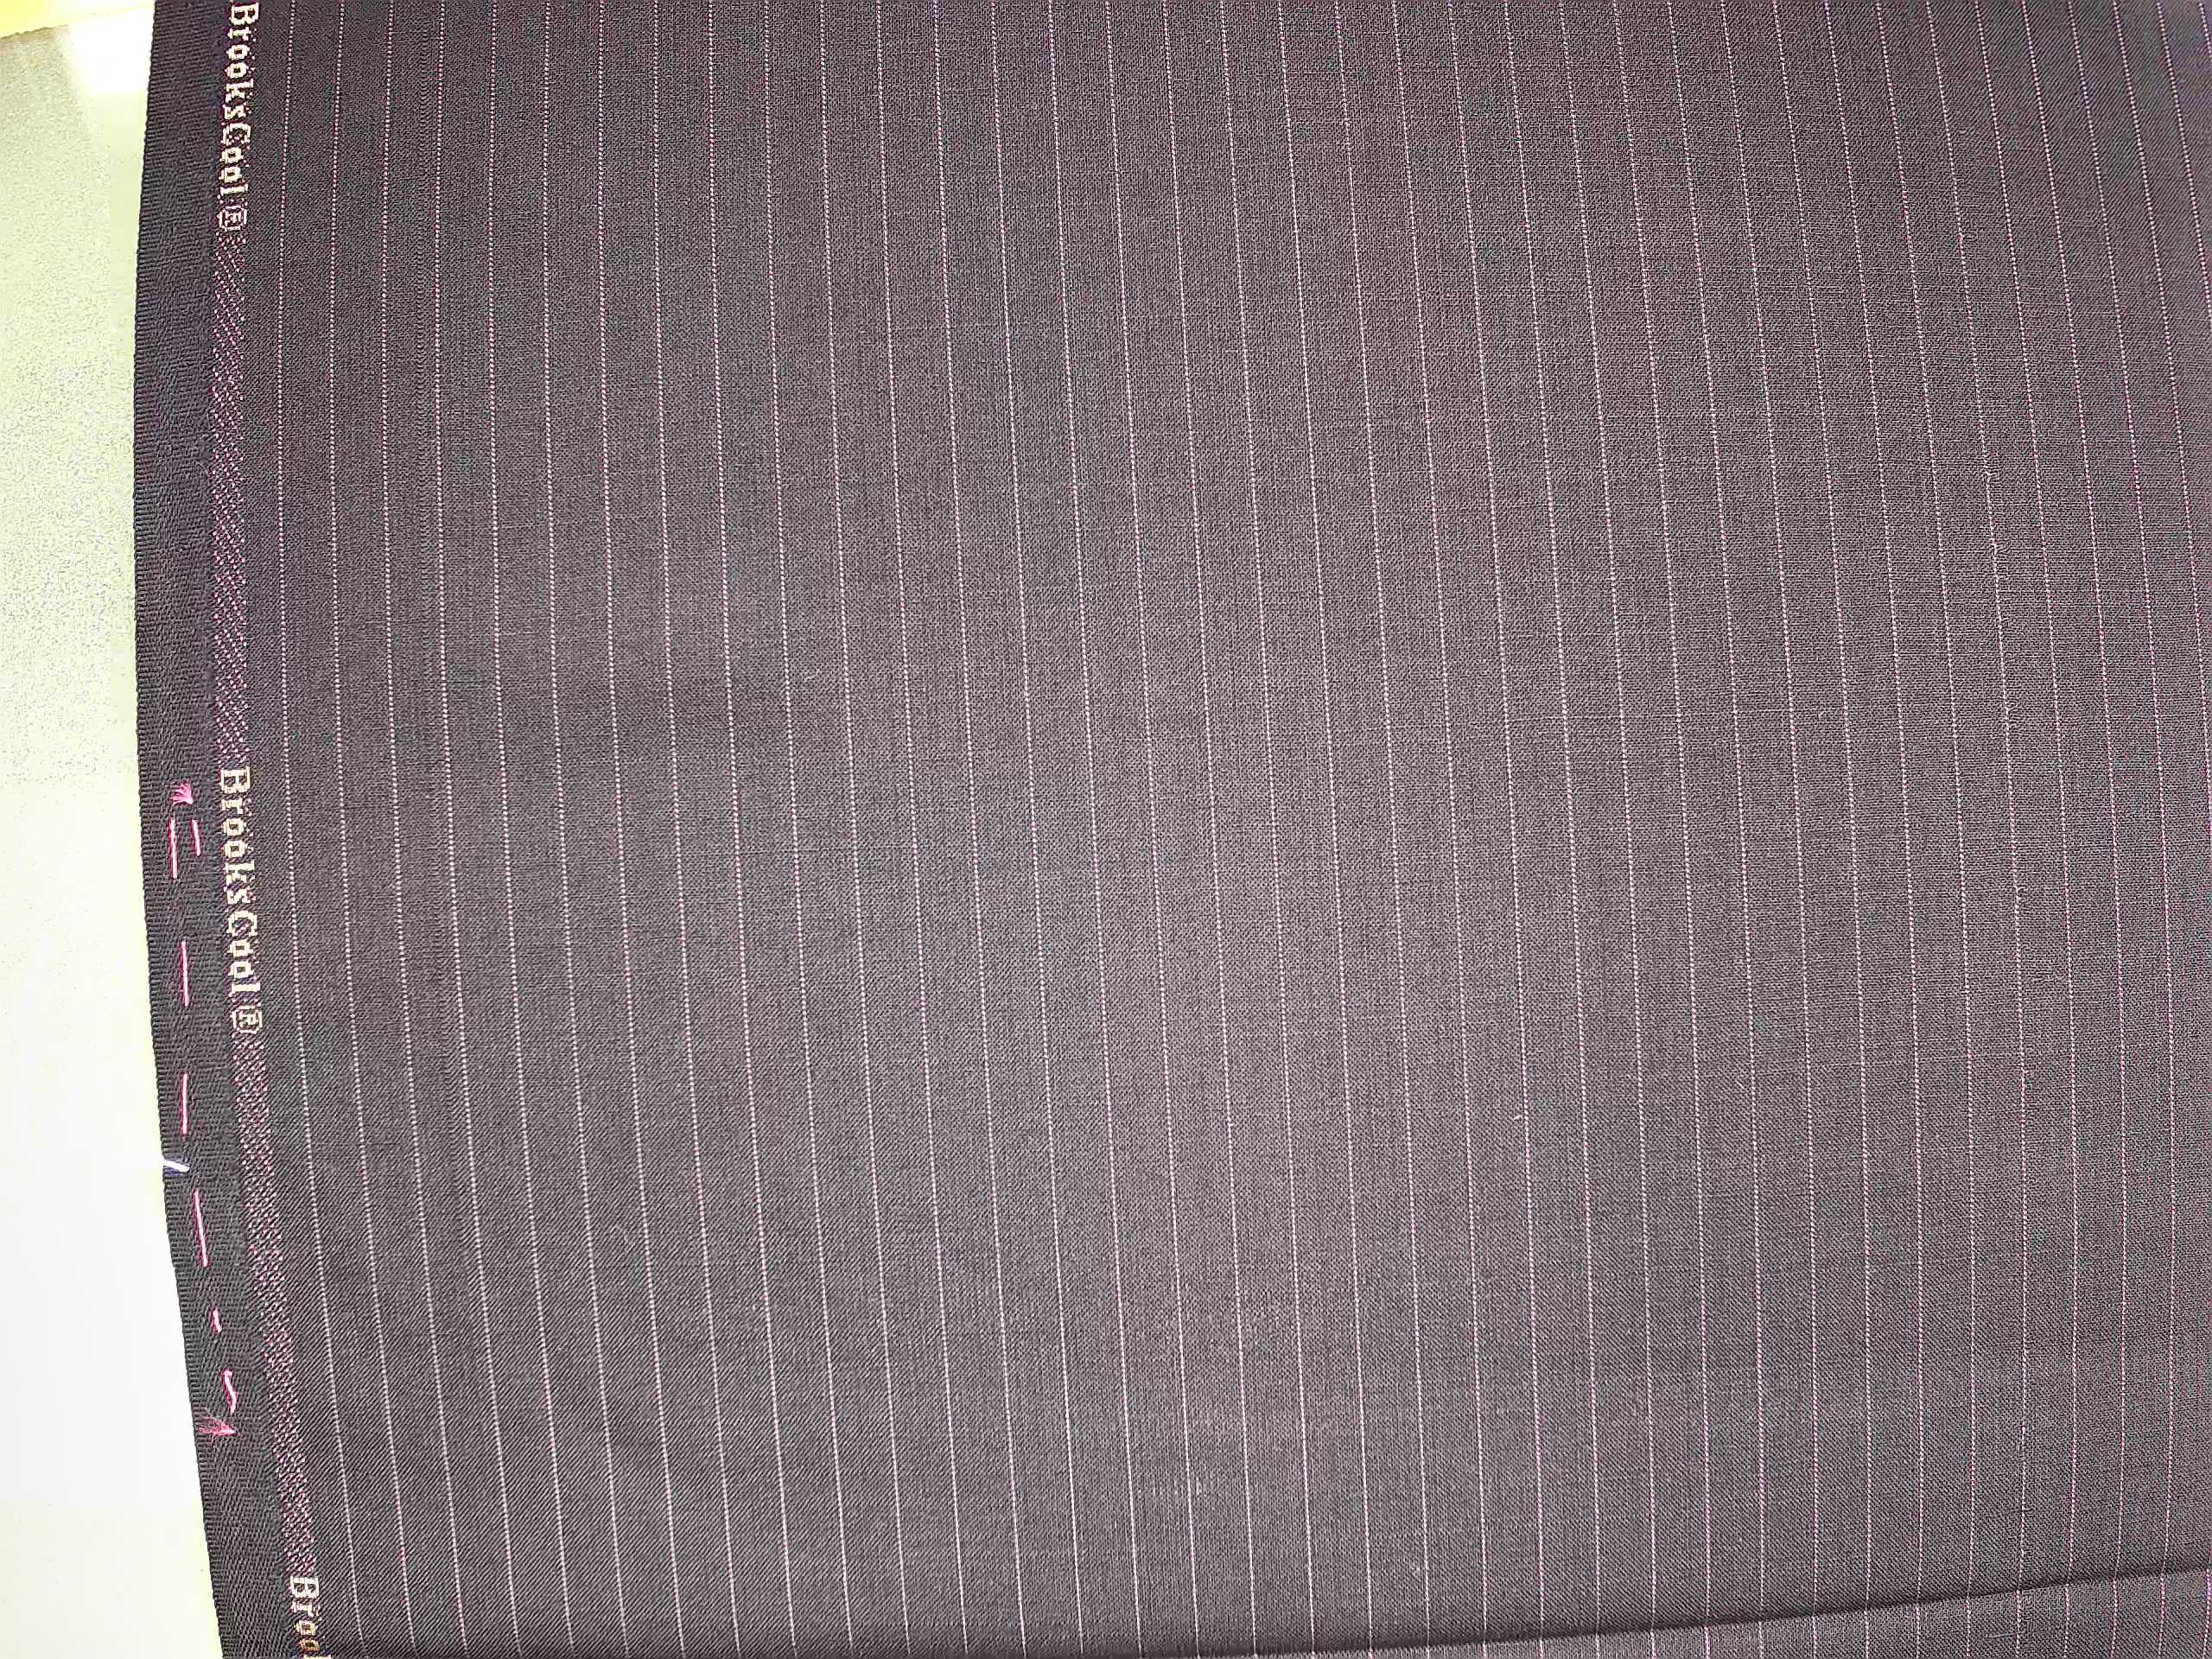hanging-warp: (406, 5, 488, 1446)
